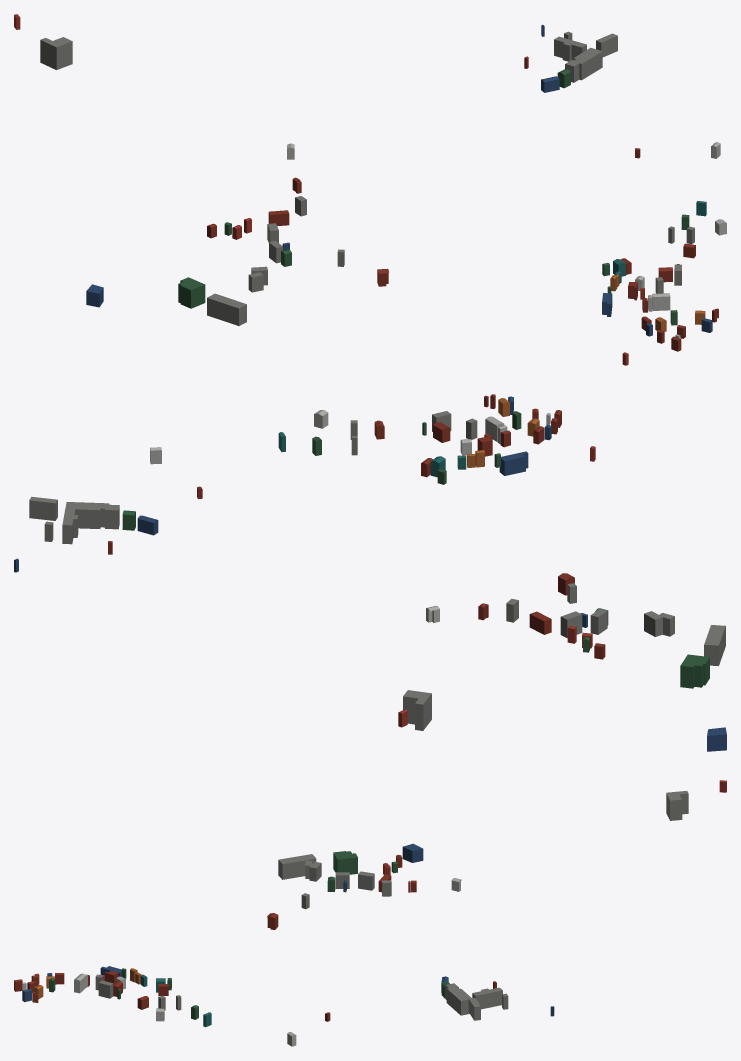
File: near-15-27351-14875.9fd72535.glb
3 views of the same model, one above another, from view 1: azimuth 30°, elevation 25°; view 2: azimuth 150°, elevation 25°; view 3: azimuth 270°, elevation 25° (orthographic). The views are drawn at different scales.
Bounding box in the file's own units: 918 × 211 × 1127.
